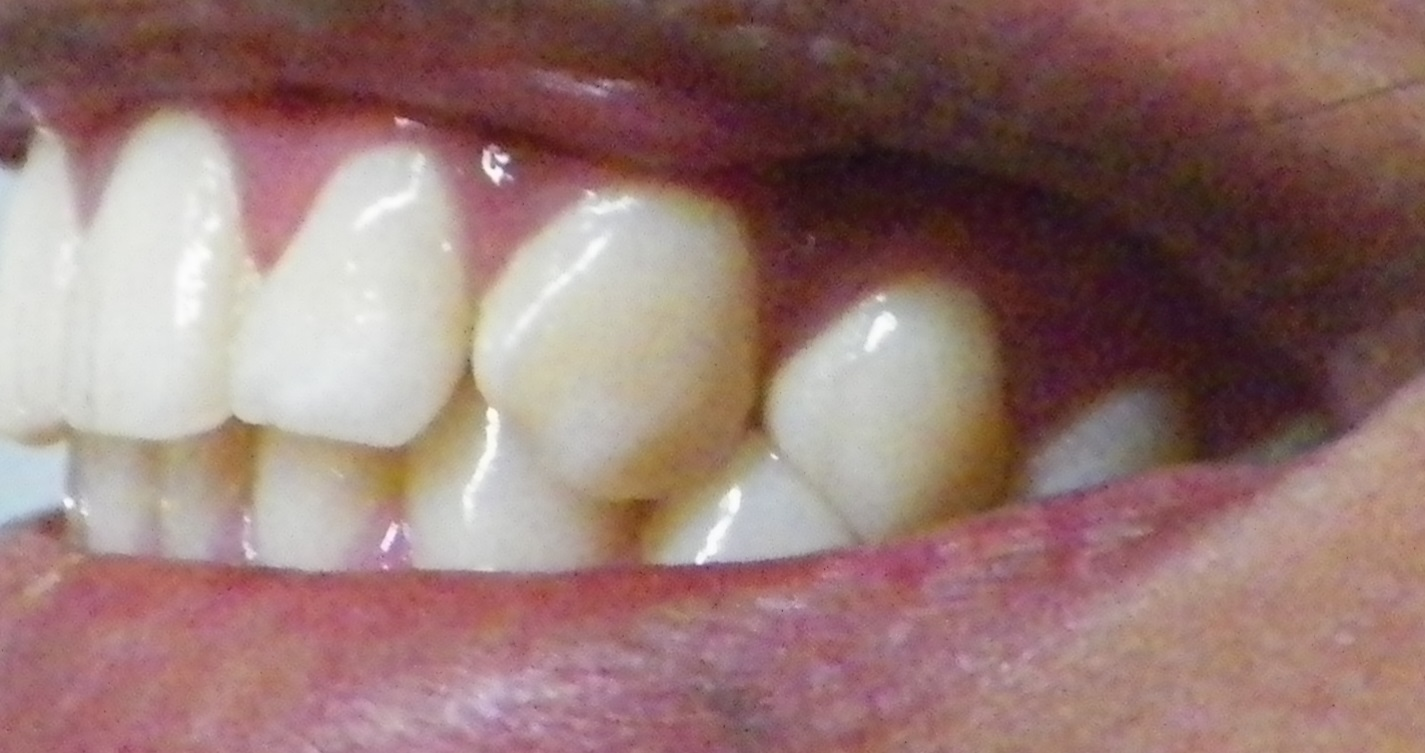boca: (5, 124, 1194, 574)
